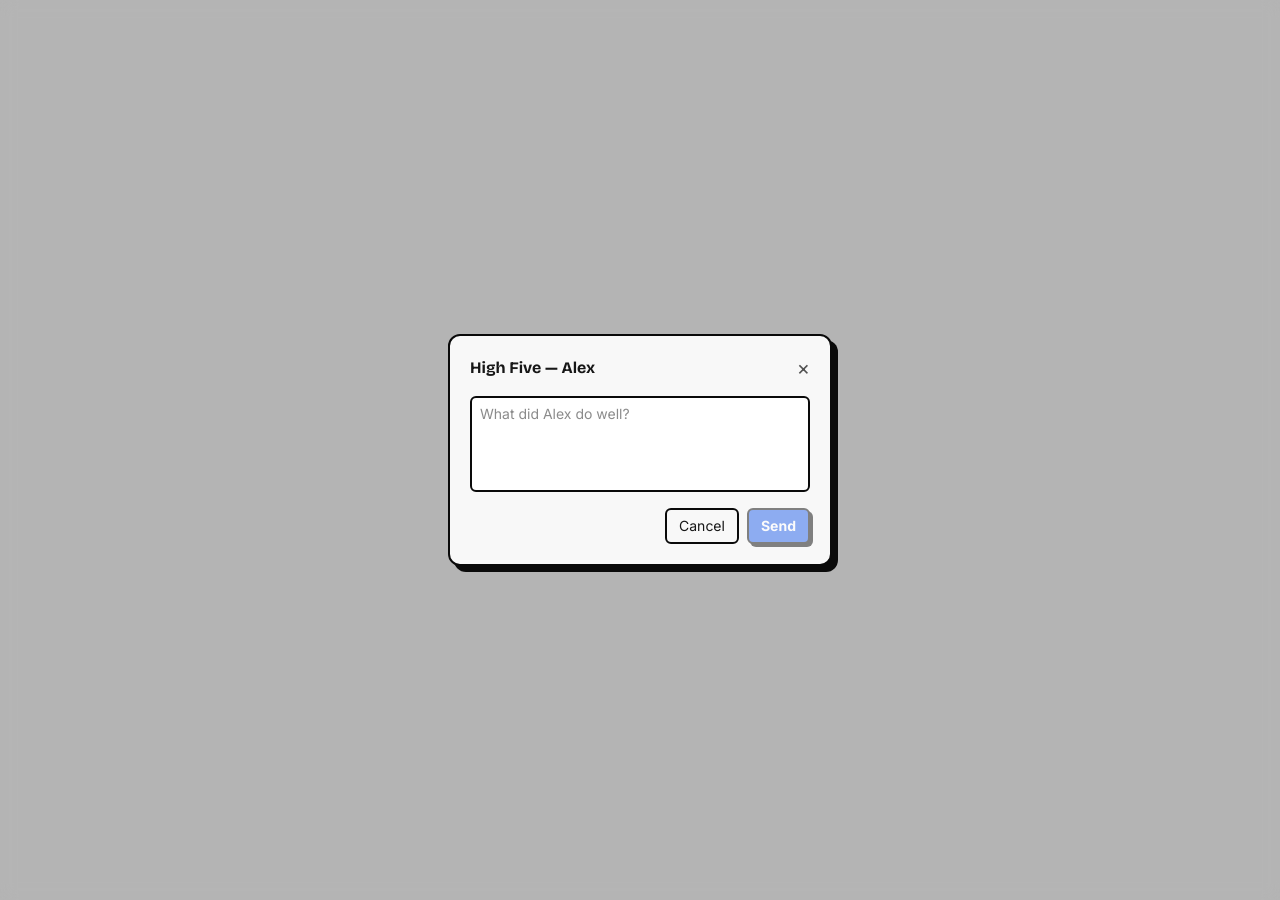
Test: QuickHighFiveModal › shows violations error on 422 response
Type "Alex you are great!" into the text box with placeholder "What did Alex do well?" at (640, 444), box x1=470 y1=396 x2=810 y2=492
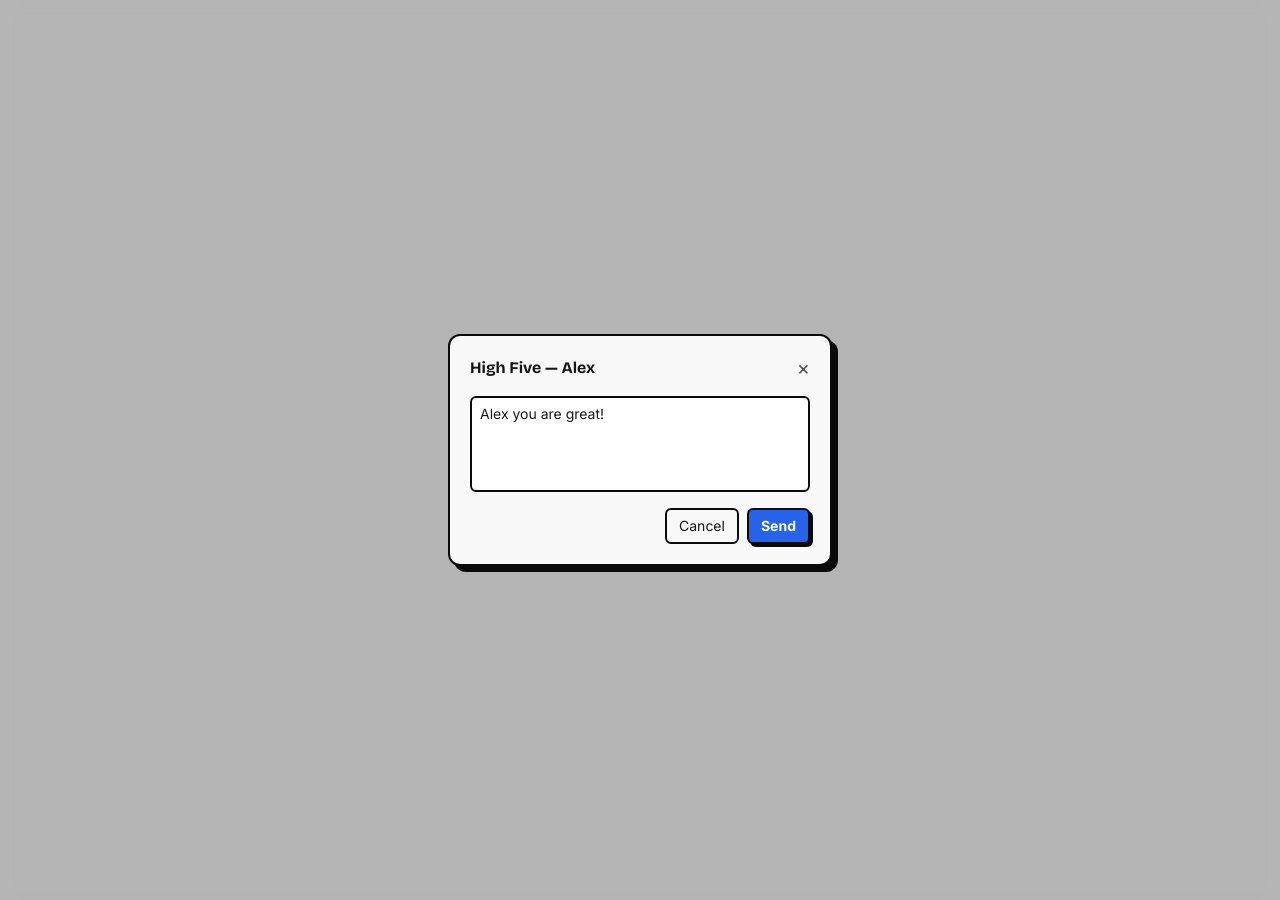
Click the button with test id "hf-send" at (778, 526), box x1=747 y1=508 x2=810 y2=544
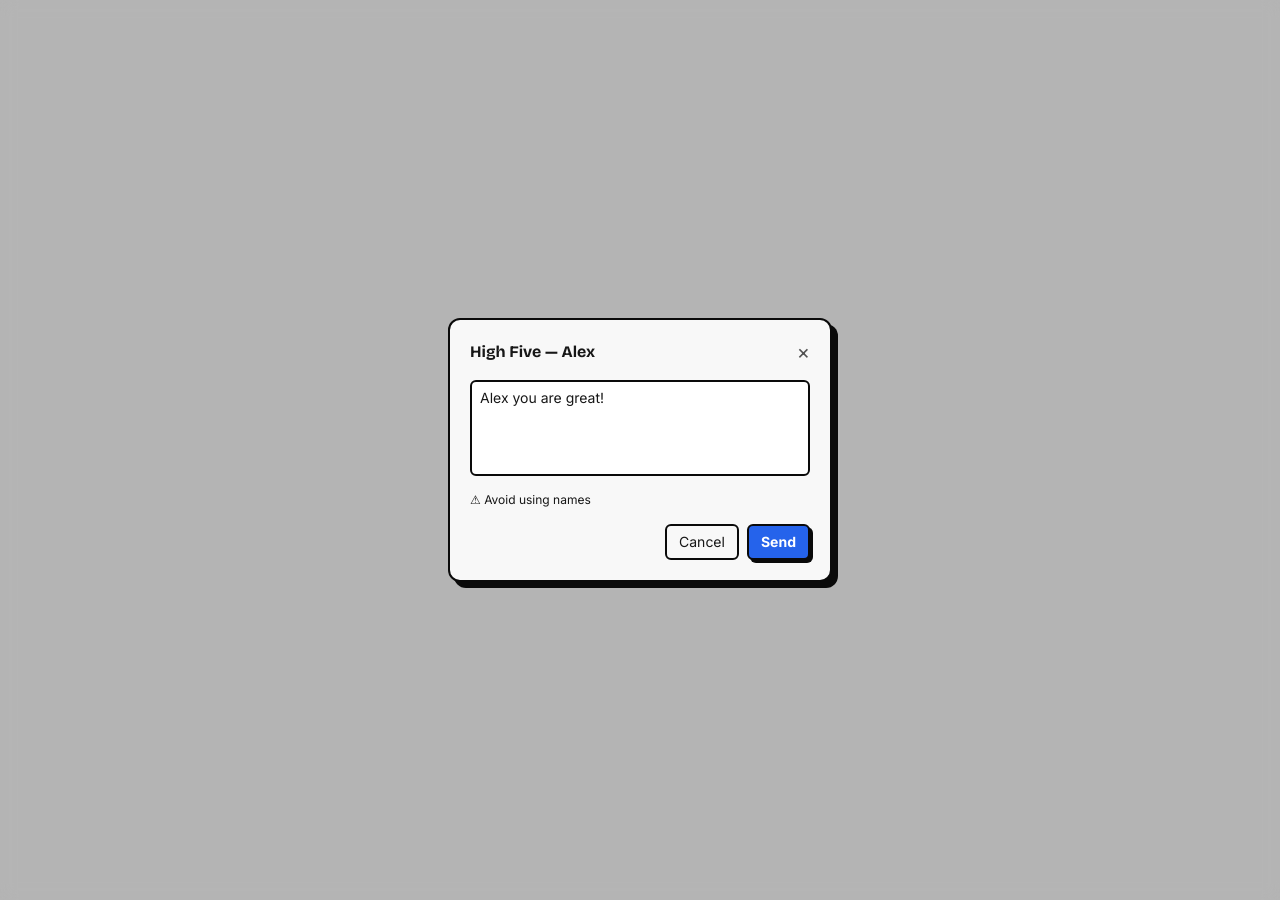
Result: the text "Avoid using names" is shown at x1=484 y1=492 x2=591 y2=507
